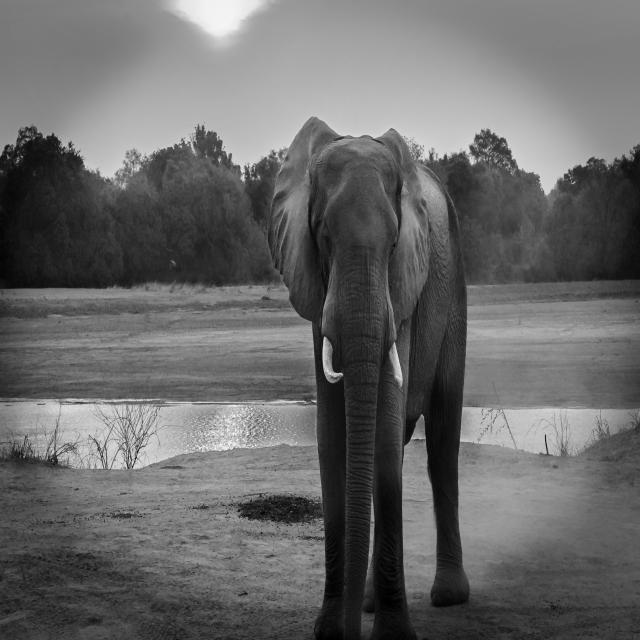Elephant: (266, 115, 470, 638)
